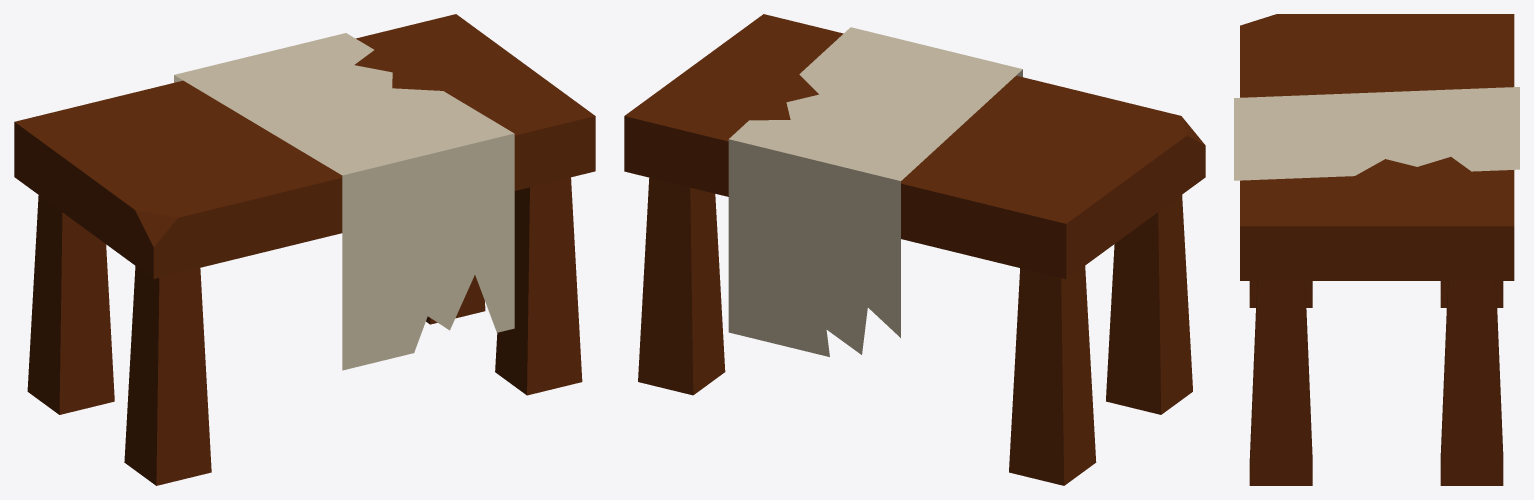
Rendered from Table 01.FBX.
3 renders of one model, left to right at view 1: azimuth 30°, elevation 25°; view 2: azimuth 150°, elevation 25°; view 3: azimuth 270°, elevation 25°, orthographic.
Parts seen in each view (by area): view 1: Table 01; view 2: Table 01; view 3: Table 01.
Boxes of the visible parts, bbox=[...] form: Table 01: bbox=[14, 14, 595, 485]; Table 01: bbox=[624, 14, 1205, 485]; Table 01: bbox=[1234, 14, 1519, 485].
Size of the model in its own units: 153 by 90.35 by 87.12.
